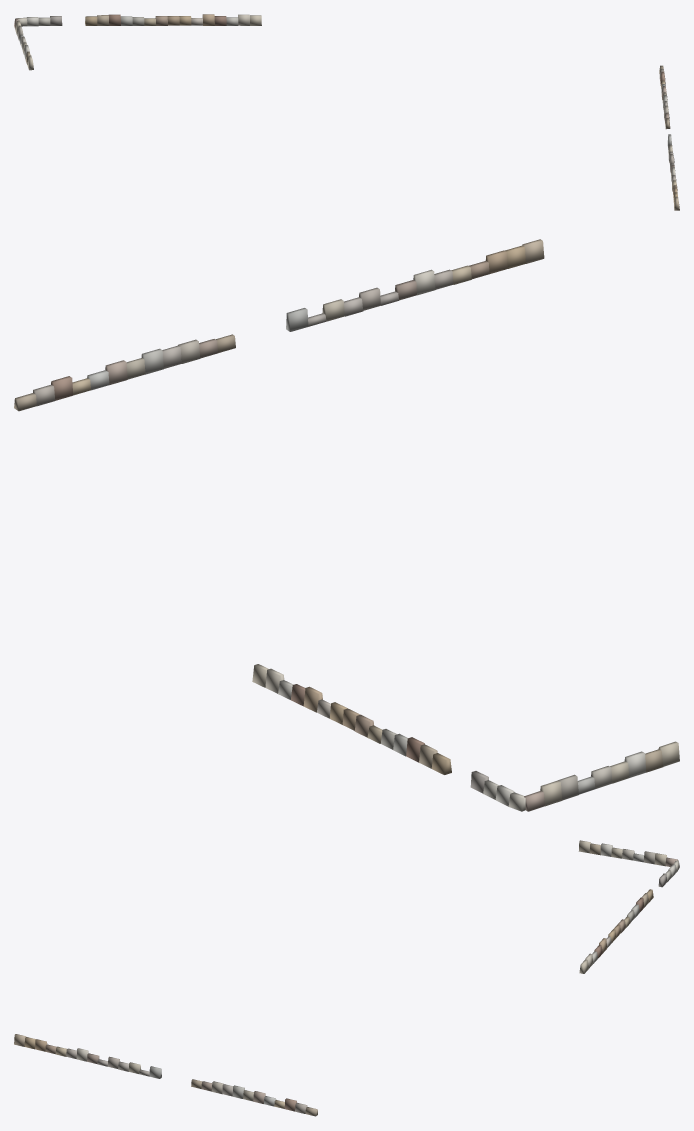
Rendered from farm_13_12_collision.glb.
3 views of the same model, one above another, from view 1: azimuth 30°, elevation 25°; view 2: azimuth 150°, elevation 25°; view 3: azimuth 270°, elevation 25° (orthographic). The views are drawn at different scales.
Visible parts, largest first — view 1: geometry_0; view 2: geometry_0; view 3: geometry_0.
Boxes of the visible parts, <box> form: geometry_0: <box>14,14,679,210</box>; geometry_0: <box>14,239,679,811</box>; geometry_0: <box>14,840,679,1116</box>.
Size of the model in its own units: 77.3 by 5.28 by 89.98.
